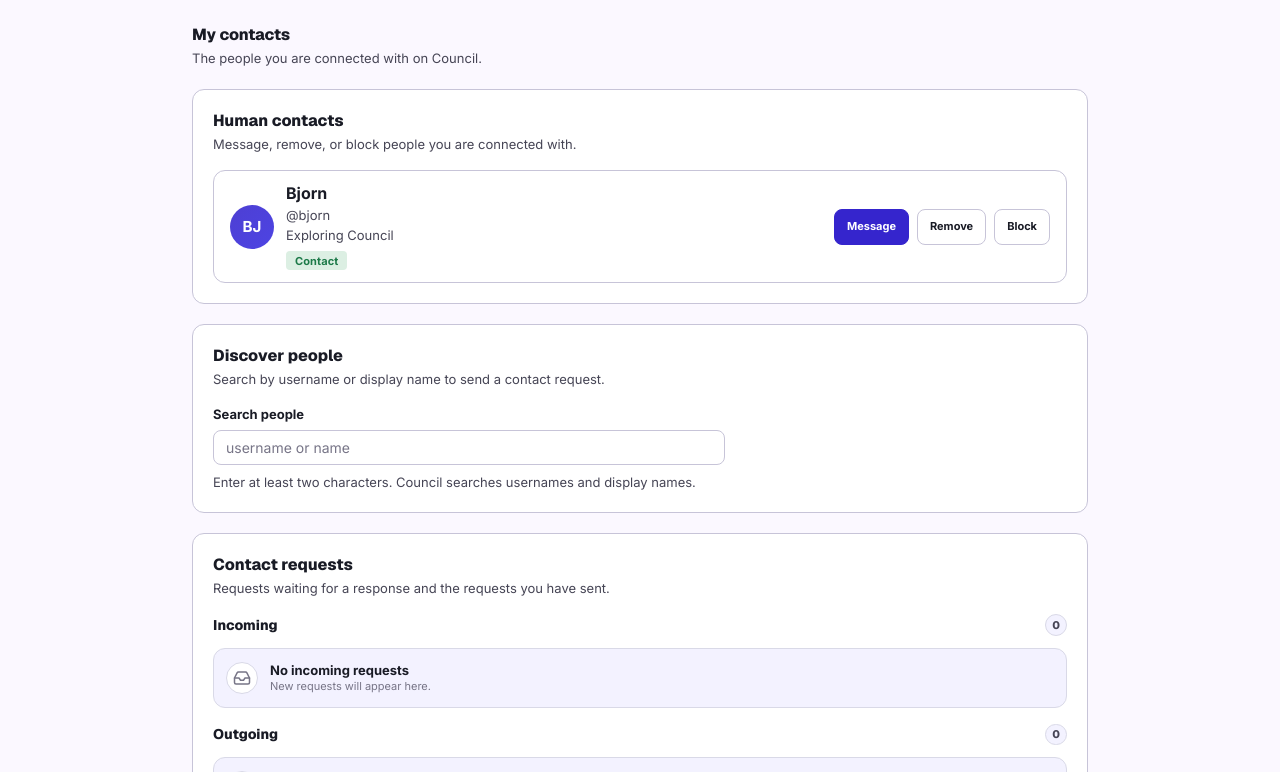
Scenario: ContactsPage › confirms and blocks a contact
Check: the text "Bjorn" is shown, box top-left (286, 183), bottom-right (327, 203)
Step 1. Click the button "Block" → (1022, 227), box top-left (994, 209), bottom-right (1050, 245)
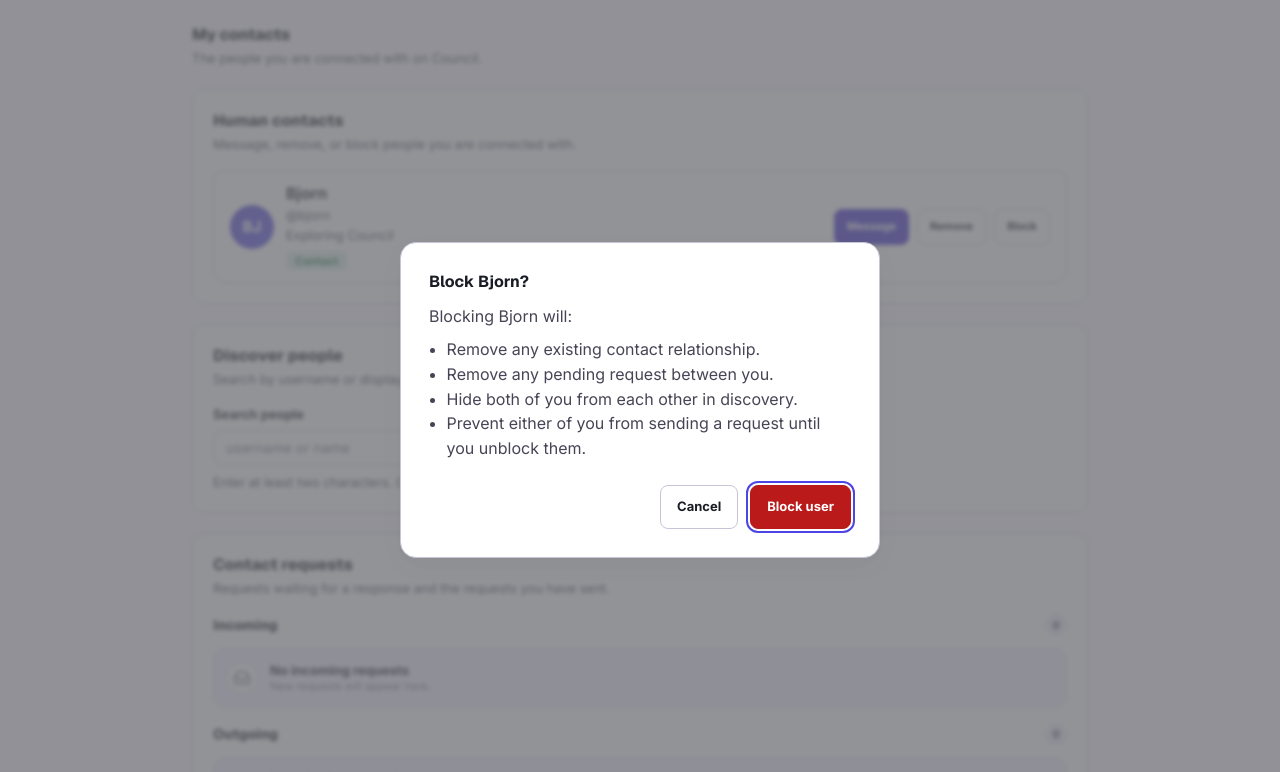
Check: the heading "Block Bjorn?" is shown, box top-left (429, 271), bottom-right (529, 292)
Step 2. Click the button "Block user" → (801, 507), box top-left (750, 485), bottom-right (851, 529)
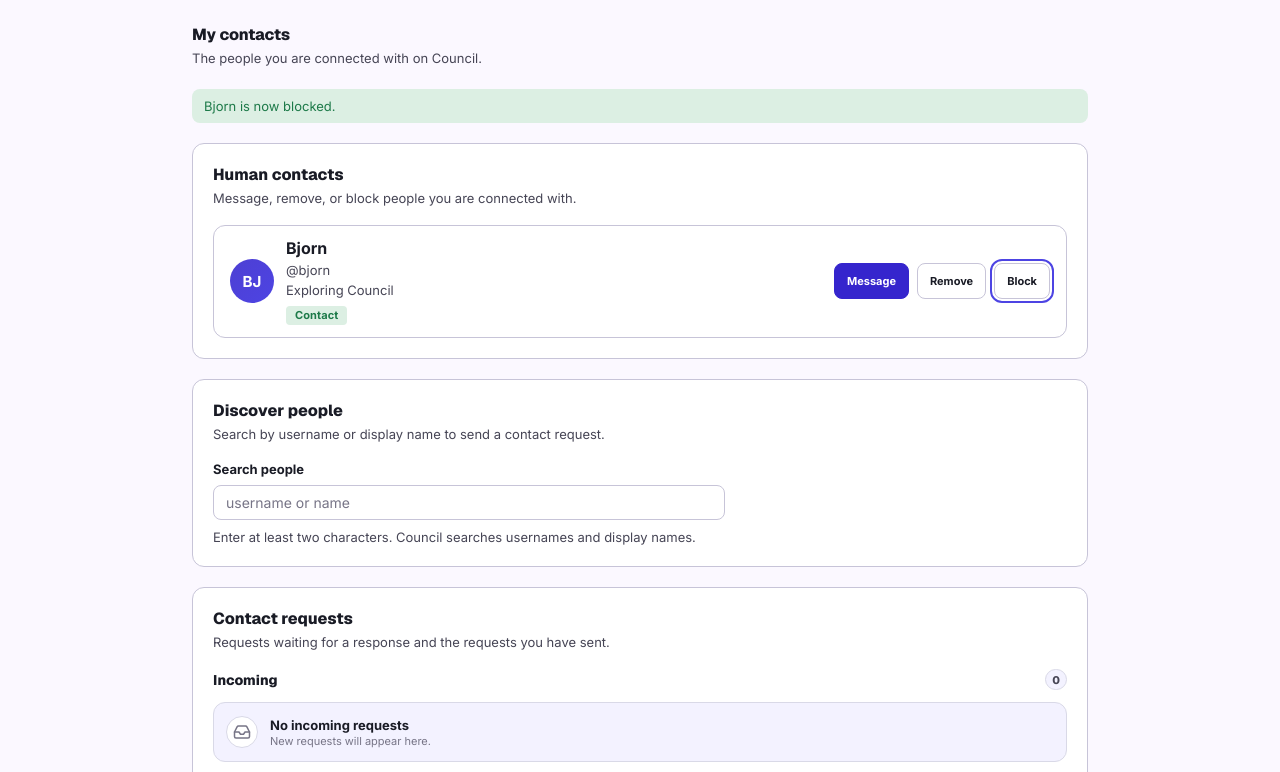
Check: the text "Bjorn is now blocked." is shown, box top-left (192, 88), bottom-right (1088, 123)
